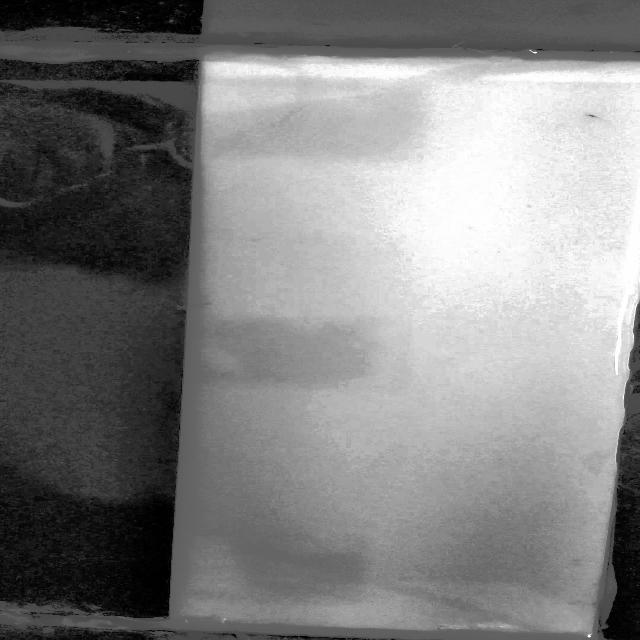shrimp: (582, 111, 600, 121)
